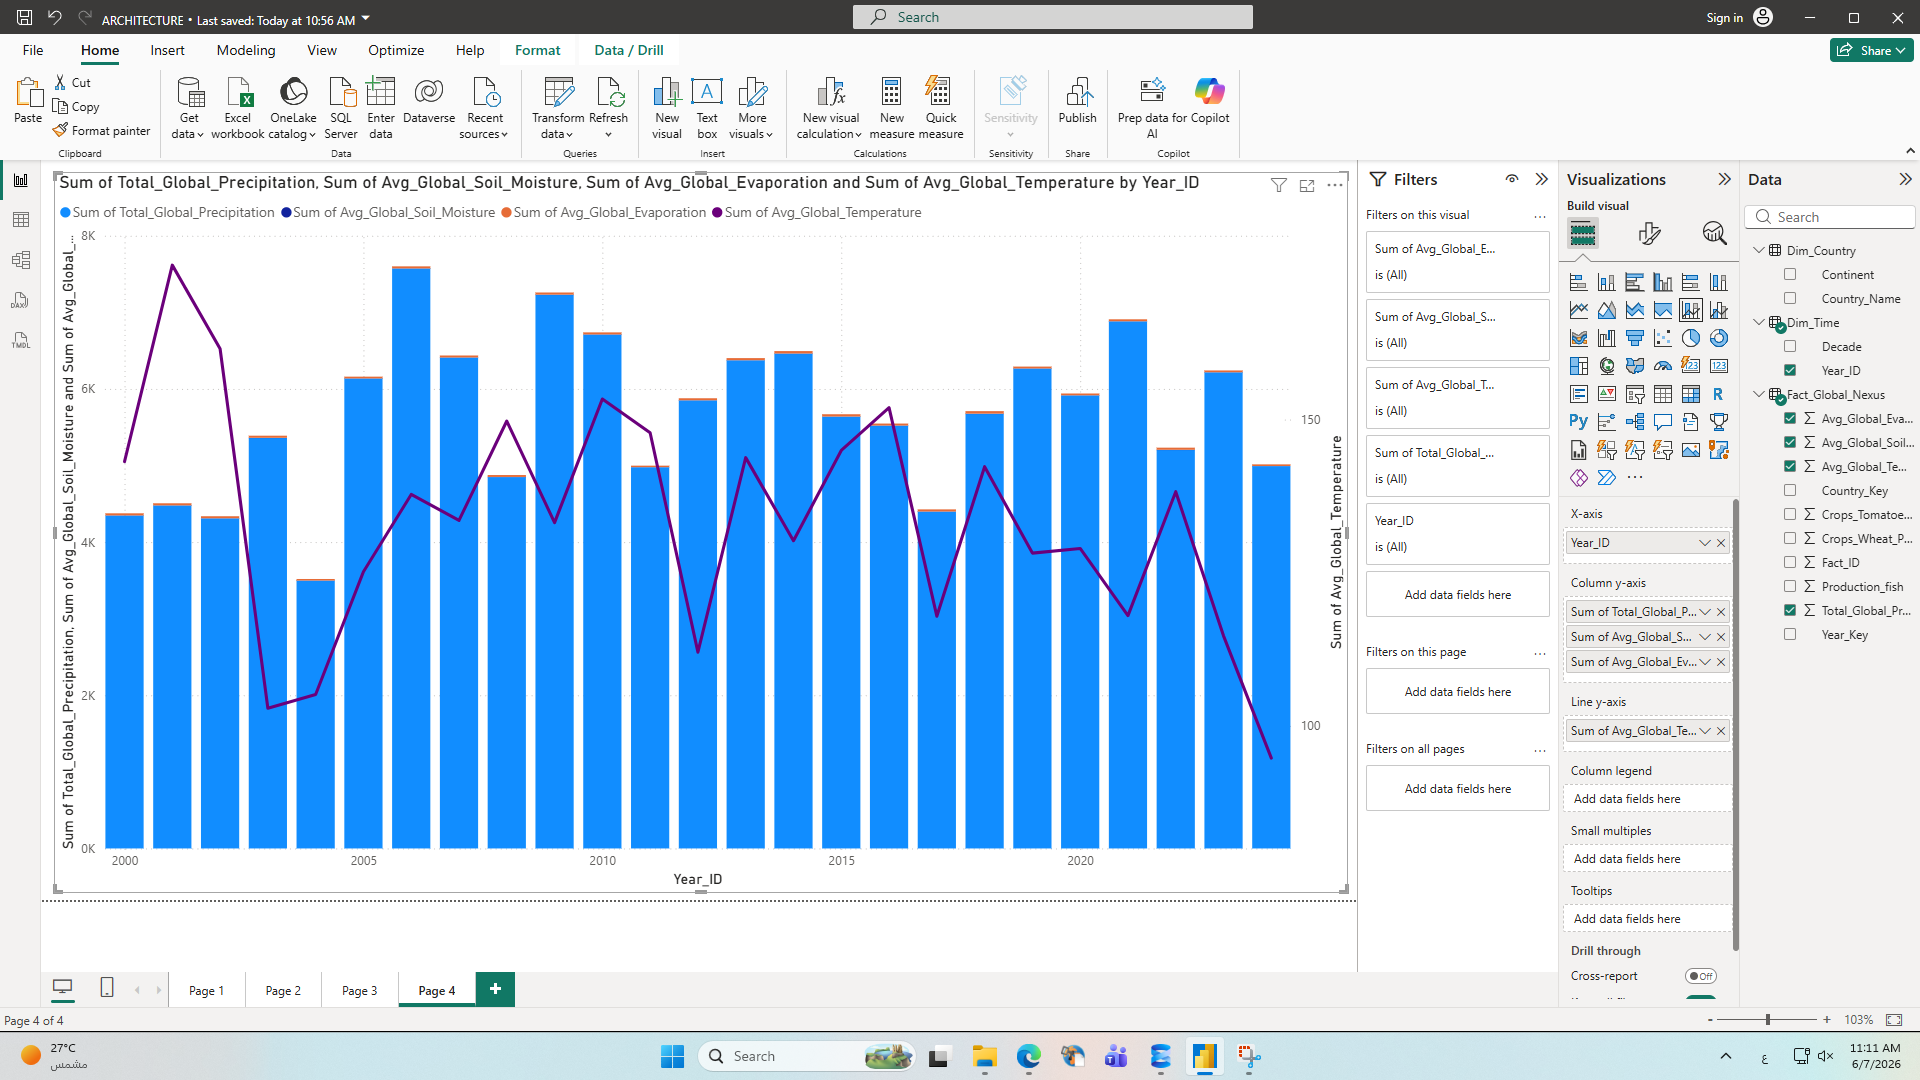

Layout of this report page (visuals, bound fields, positions):
{"tool":"powerbi","page":{"name":"Page 4","canvas":[1280,720],"ordinal":3},"visuals":[{"type":"lineStackedColumnComboChart","fields":{"Category":["Dim_Time.Year_ID"],"Y":["Sum(Fact_Global_Nexus.Total_Global_Precipitation)","Sum(Fact_Global_Nexus.Avg_Global_Soil_Moisture)","Sum(Fact_Global_Nexus.Avg_Global_Evaporation)"],"Y2":["Sum(Fact_Global_Nexus.Avg_Global_Temperature)"]},"box":[12.6,11.7,1258.6,701.3],"z":0}]}

Visuals, with their boxes on the page's 1280x720 design canvas (x1, y1, x2, y2). These are canvas units, not pixel positions in the 1920x1080 screenshot, which may show the page scaled, cropped or inside an application window:
lineStackedColumnComboChart - Dim_Time.Year_ID x Sum(Fact_Global_Nexus.Total_Global_Precipitation): x1=13, y1=12, x2=1271, y2=713
